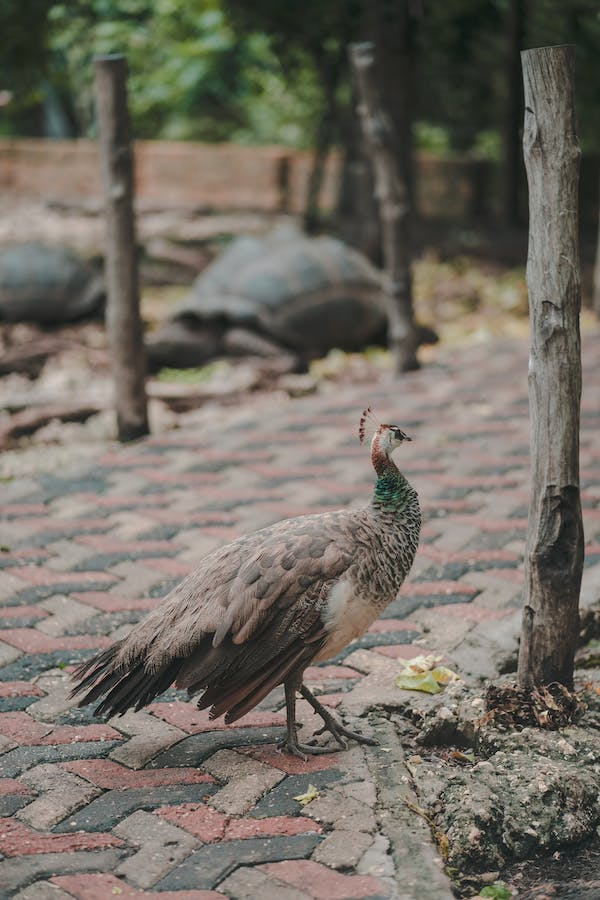Walking: (43, 404, 471, 778)
